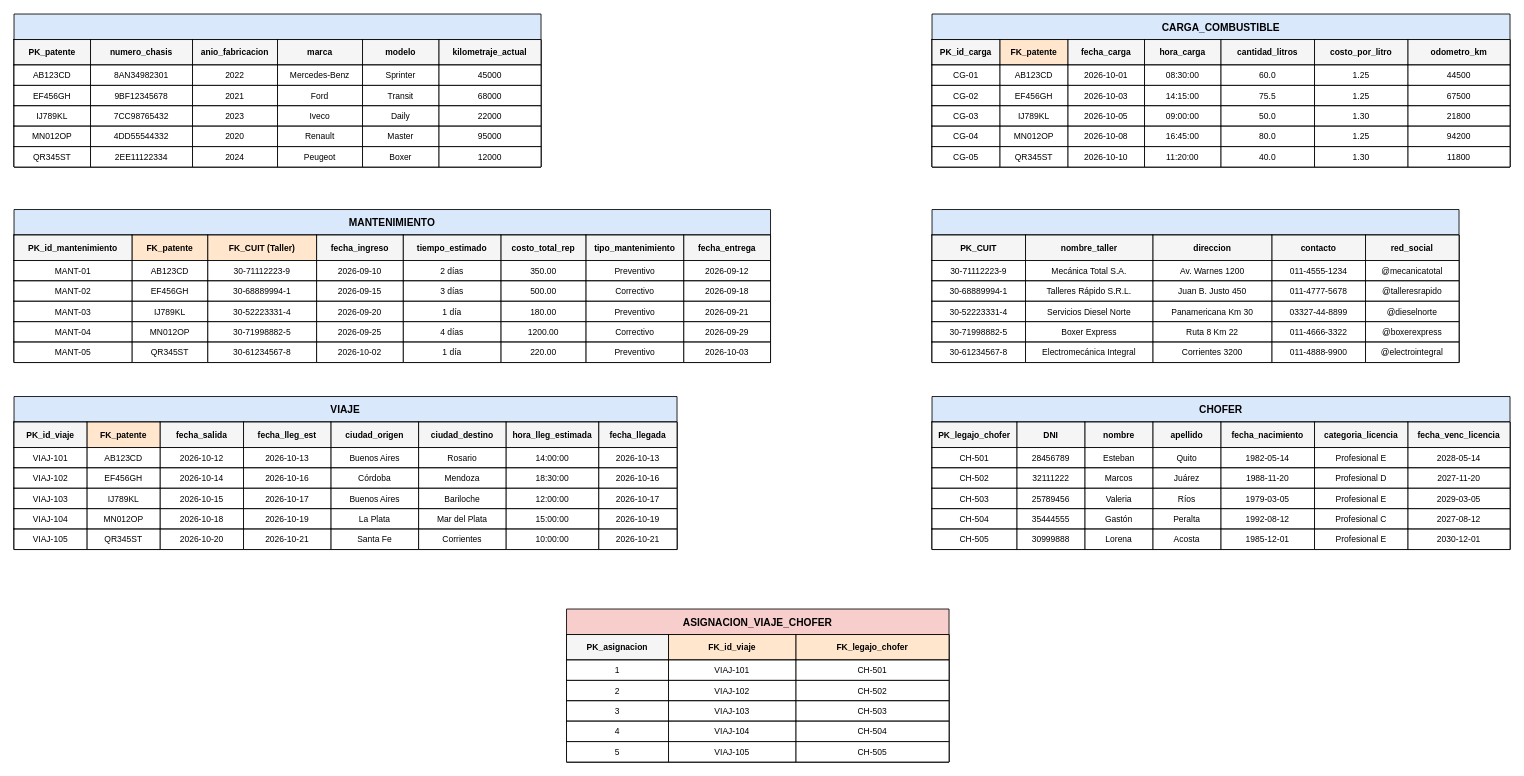
Some shapes in this 1524 by 776 pixel diagram are drawn without their labels. Each missing label, with the box of its shape:
TALLER_MECANICO: (931, 209, 1459, 363)
VEHICULO: (13, 13, 541, 167)
